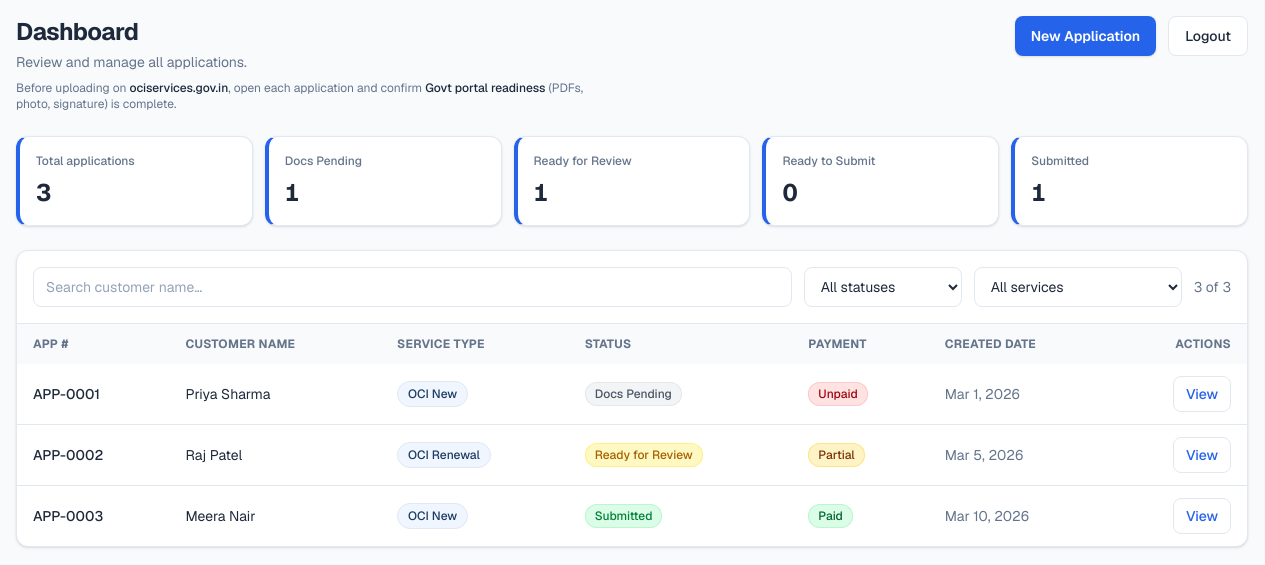
Test: Dashboard › Test 5: Status filter works
The image size is (1265, 565).
Expected: the text "Priya Sharma" is shown, top-left (170, 364), bottom-right (381, 424)
Select "Submitted" in the 1st dropdown named "Filter by status". click: coordinates (883, 287)
box: top-left (804, 267), bottom-right (962, 307)
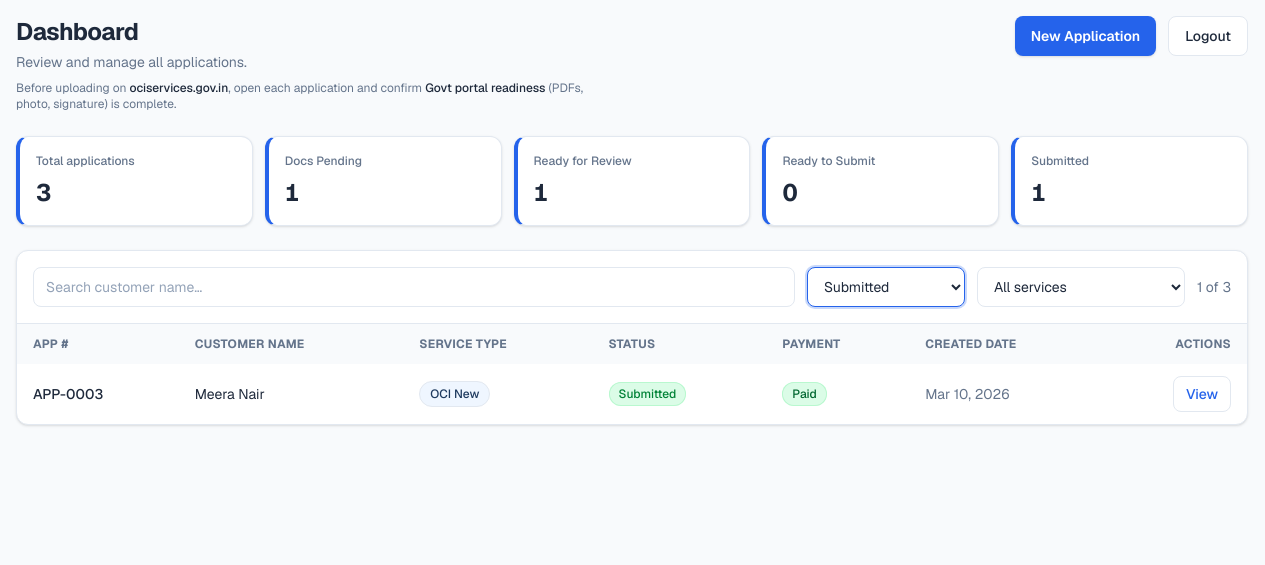
Expected: the text "Meera Nair" is shown, top-left (179, 364), bottom-right (403, 424)
Result: the text "Priya Sharma" is gone
Result: the text "Raj Patel" is gone
